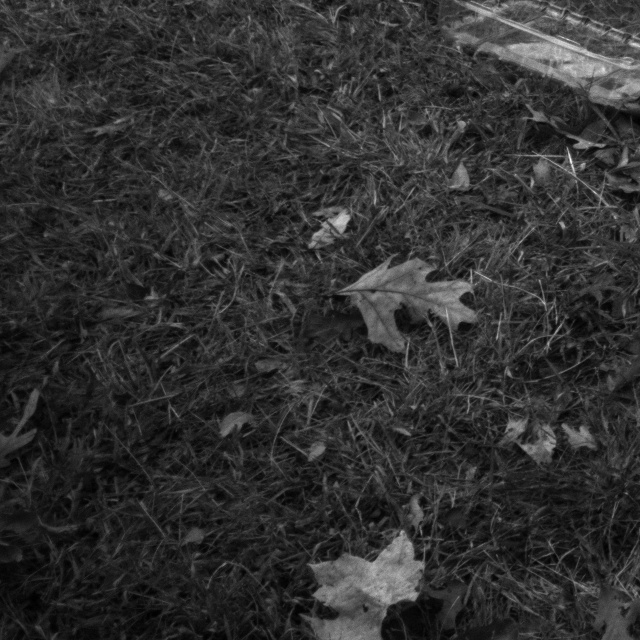container: (419, 0, 640, 122)
